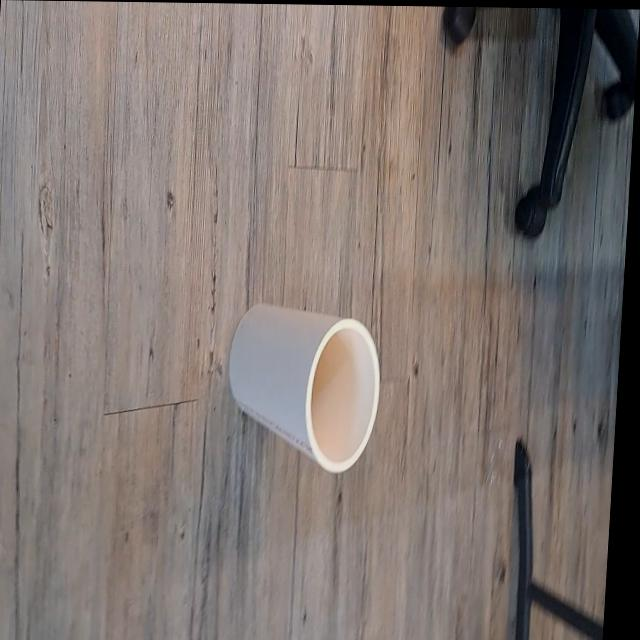CORAL: (214, 295, 391, 479)
